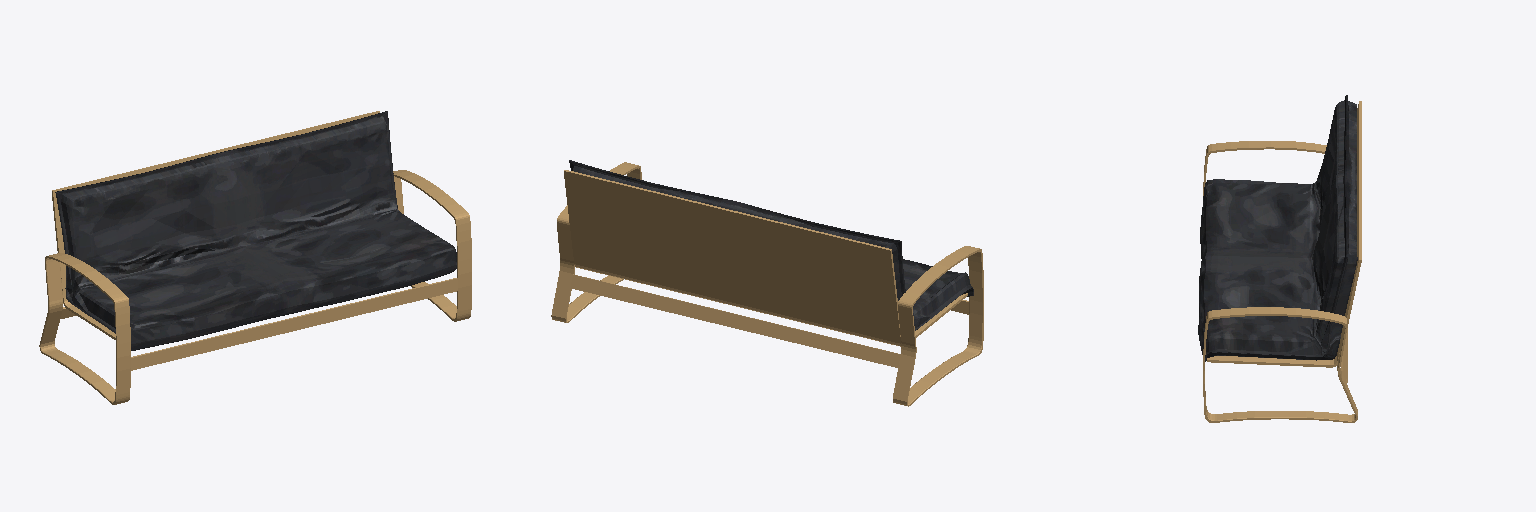
3 renders of one model, left to right at view 1: azimuth 30°, elevation 25°; view 2: azimuth 150°, elevation 25°; view 3: azimuth 270°, elevation 25°, orthographic.
Parts seen in each view (by area): view 1: Sofa_F; view 2: Sofa_F; view 3: Sofa_F.
Boxes of the visible parts, box(x1,y1,x2,y2) form: Sofa_F: box(39, 111, 471, 404); Sofa_F: box(551, 160, 983, 406); Sofa_F: box(1198, 95, 1361, 422).
Size of the model in its own units: 2.03 by 0.8799 by 0.812.
Materials: 2 (2 with a texture image).